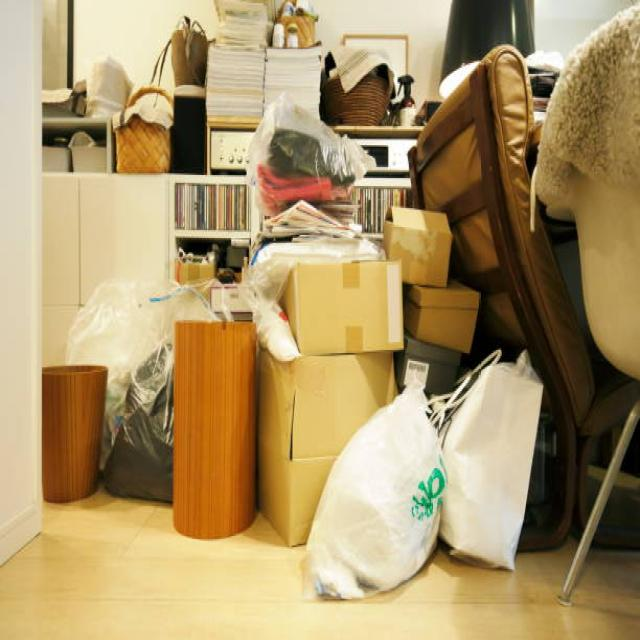cardboard: (235, 222, 497, 399)
trash: (273, 366, 543, 588), (96, 221, 187, 419)
